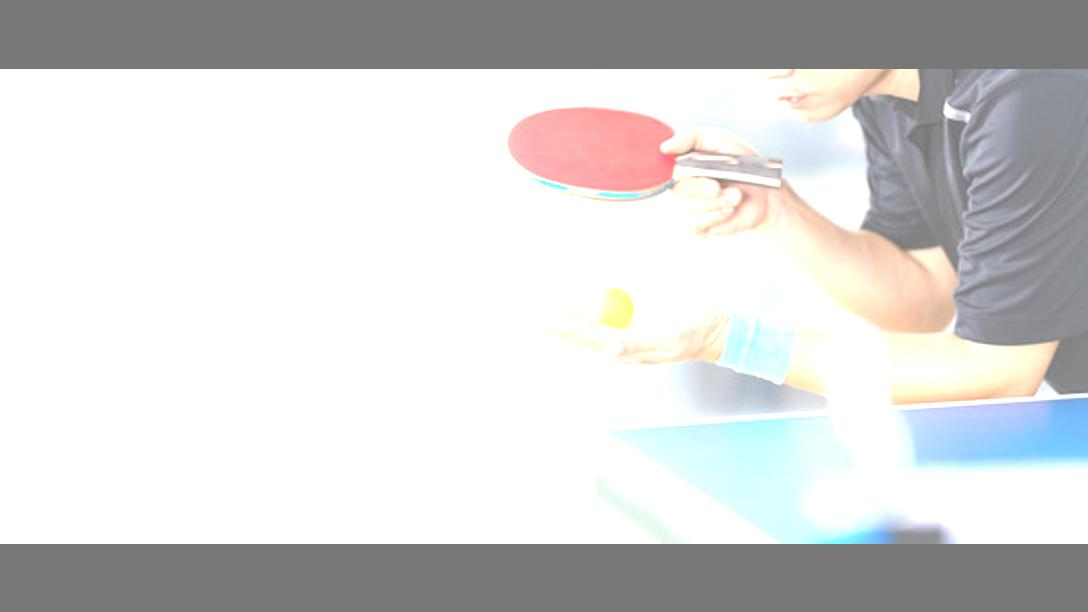Table-Tennis-Ball: (590, 285, 634, 325)
